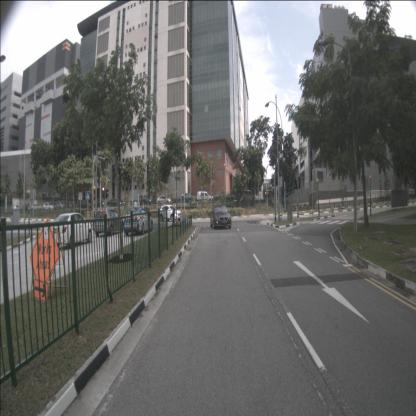human-pedestrian-adult: (172, 200, 176, 225)
vehicle-car: (49, 212, 92, 248), (94, 208, 124, 237), (124, 207, 153, 235), (210, 204, 231, 230), (159, 205, 181, 222), (136, 194, 152, 206), (240, 190, 256, 202), (107, 198, 125, 208), (157, 195, 172, 205), (182, 191, 194, 201), (225, 192, 236, 202), (31, 203, 42, 212), (54, 201, 64, 210), (43, 203, 54, 211), (24, 204, 32, 213), (13, 204, 22, 212)
vehicle-truck: (196, 190, 212, 203)
